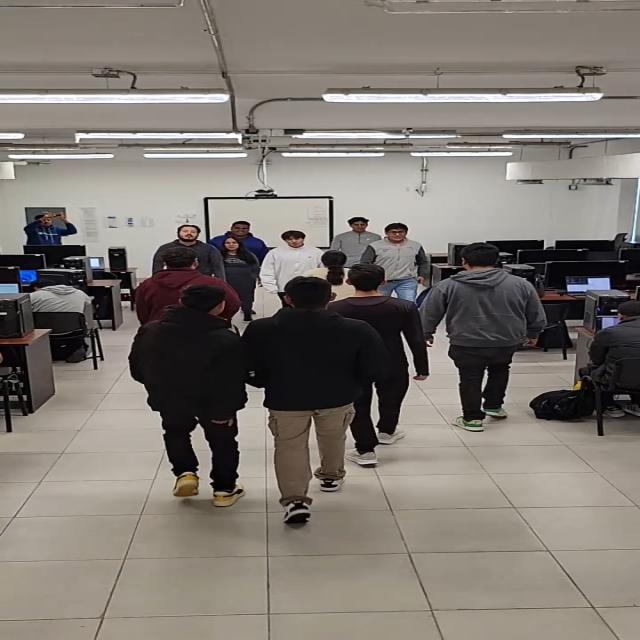Persona: (126, 287, 243, 446), (258, 278, 344, 430), (450, 244, 533, 400), (349, 264, 420, 439), (145, 249, 228, 293), (369, 222, 425, 282), (265, 230, 326, 280), (320, 247, 370, 304), (22, 212, 91, 245), (334, 213, 374, 259), (222, 239, 251, 293), (163, 222, 212, 252), (222, 221, 257, 244)
